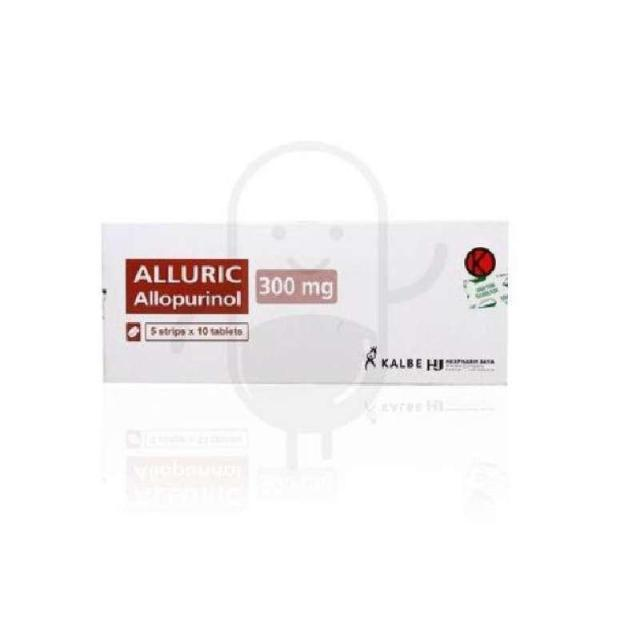drug-name: (132, 262, 246, 310)
